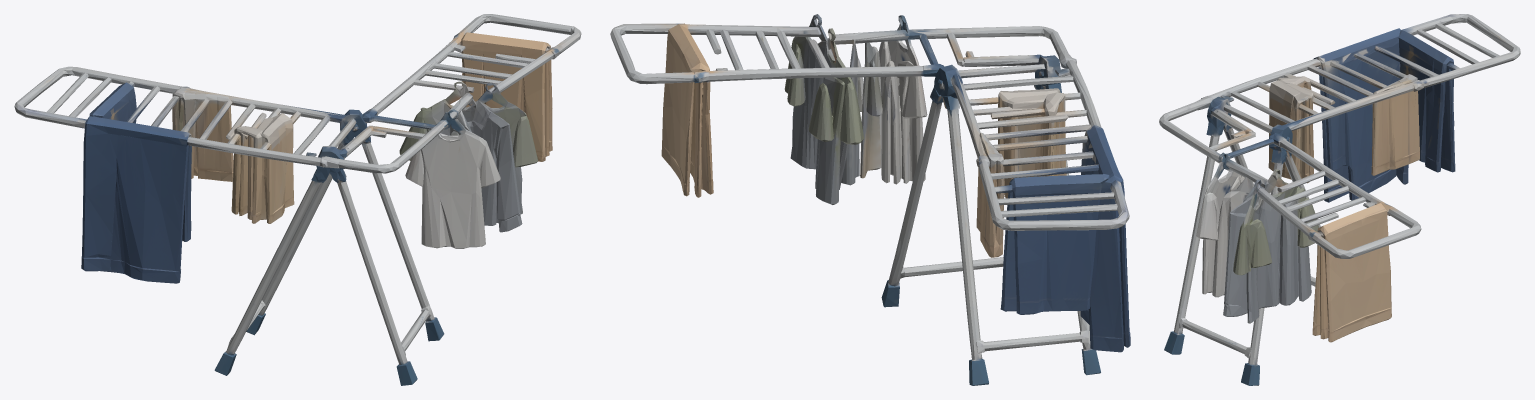
File: laundry_rack.glb
3 renders of one model, left to right at view 1: azimuth 30°, elevation 25°; view 2: azimuth 150°, elevation 25°; view 3: azimuth 270°, elevation 25°, orthographic. The views are drawn at different scales.
Parts seen in each view (by area): view 1: laundry_rack; view 2: laundry_rack; view 3: laundry_rack.
Boxes of the visible parts, x1,y1,x2,y2 form: laundry_rack: (14,14,581,385); laundry_rack: (610,14,1130,385); laundry_rack: (1159,14,1520,385).
Bounding box in the file's own units: 1.7 × 0.775 × 1.08.
1 material, 1 textured.
